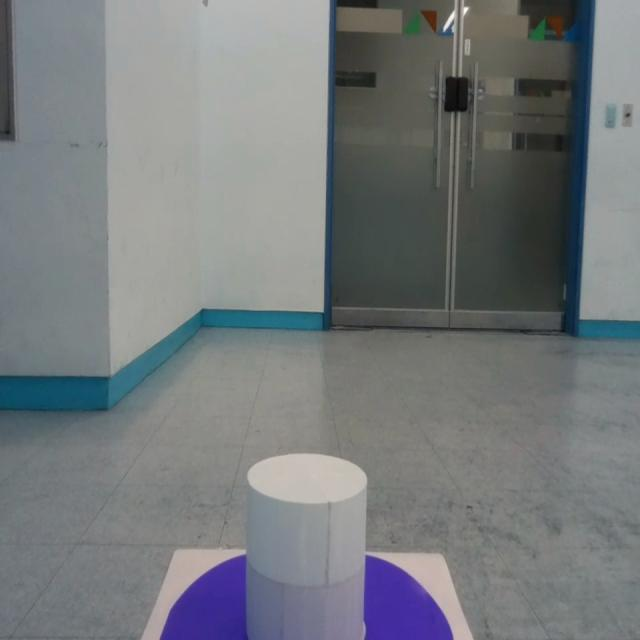cylinder: (243, 453, 368, 639)
